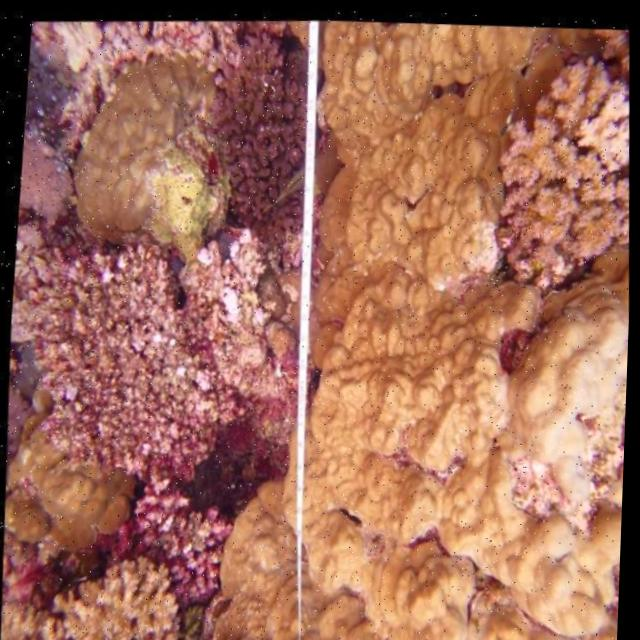Healthy Coral: (24, 217, 295, 486), (68, 52, 232, 264), (118, 482, 238, 606)
